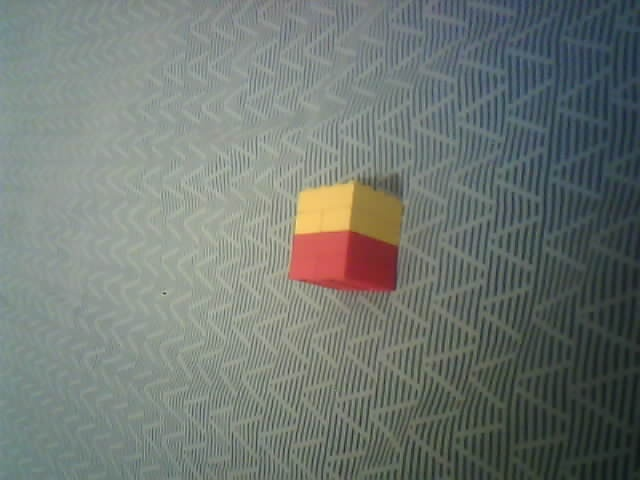lego: (287, 180, 404, 294)
